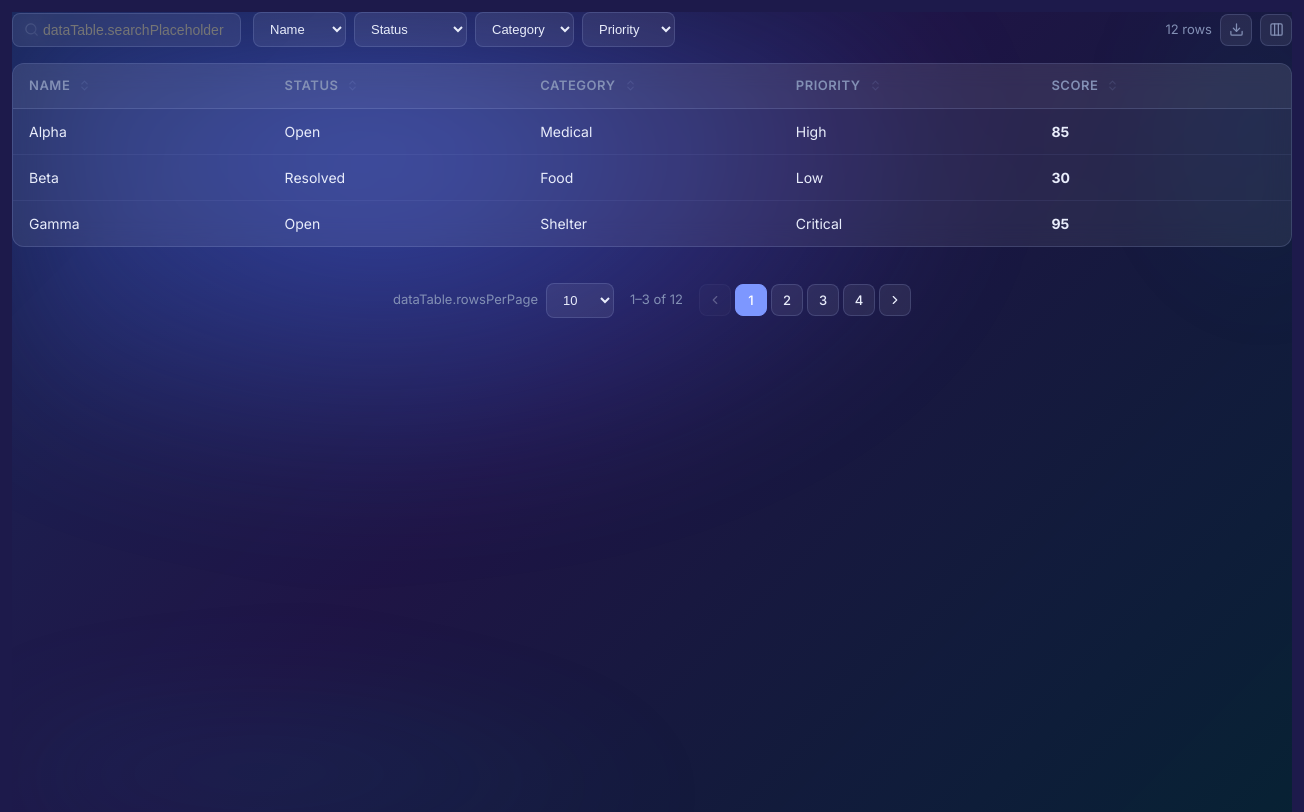
DataTable › Column Filters › clears search when clear all filters is clicked
This screenshot has width=1304, height=812.
Type "alpha" into the field at point(126, 30), box [12, 12, 241, 46]
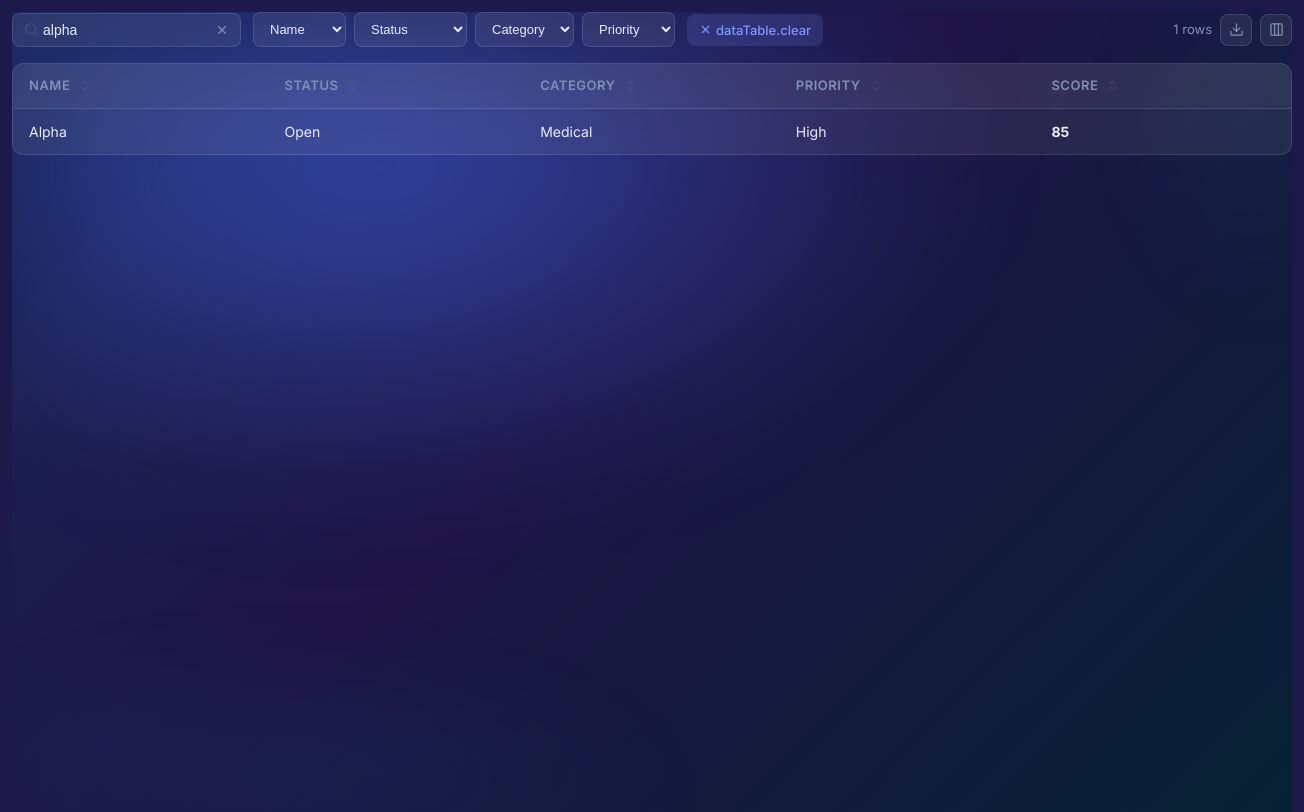
Click the button named "dataTable.clearAllFilters" at point(755, 30), box [687, 14, 823, 46]
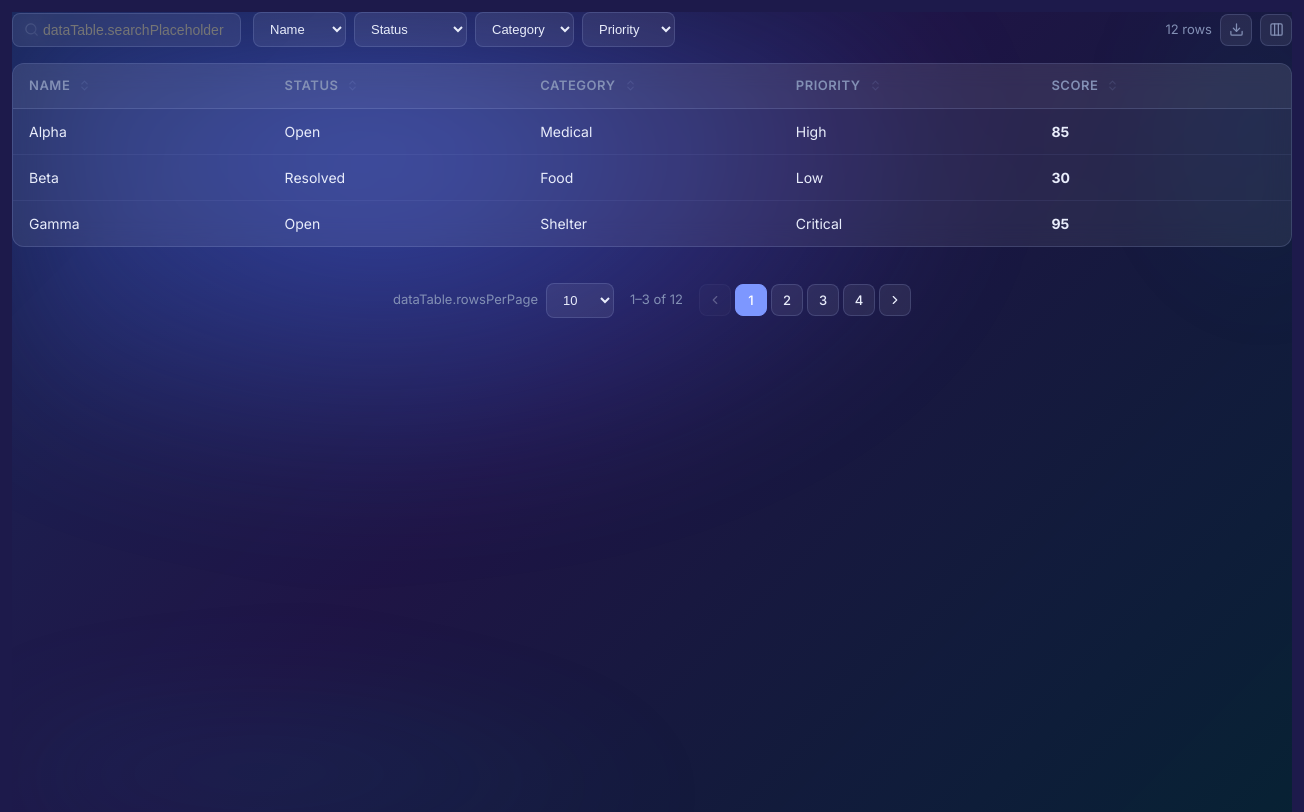
Check: the field is empty, box [12, 12, 241, 46]
